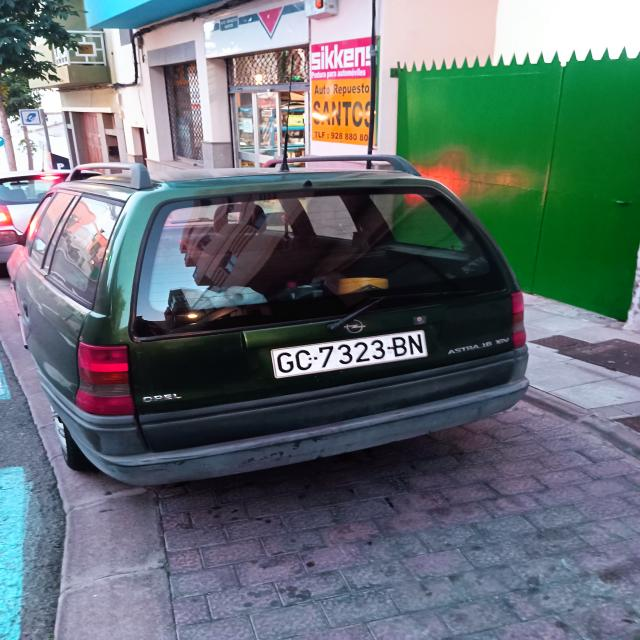football: (270, 330, 428, 380)
